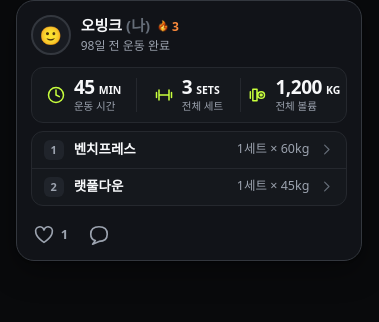
Test: FeedItemCard — 따라하기 버튼 › 내 기록은 펼쳐도 안 보인다
This screenshot has width=379, height=322.
Click the button with aria-label "운동 상세". click: click(189, 168)
box: [31,130,347,206]
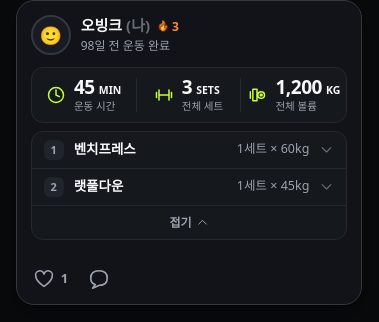
Check: the button with aria-label "운동 상세" is expanded, box [31,130,347,240]
